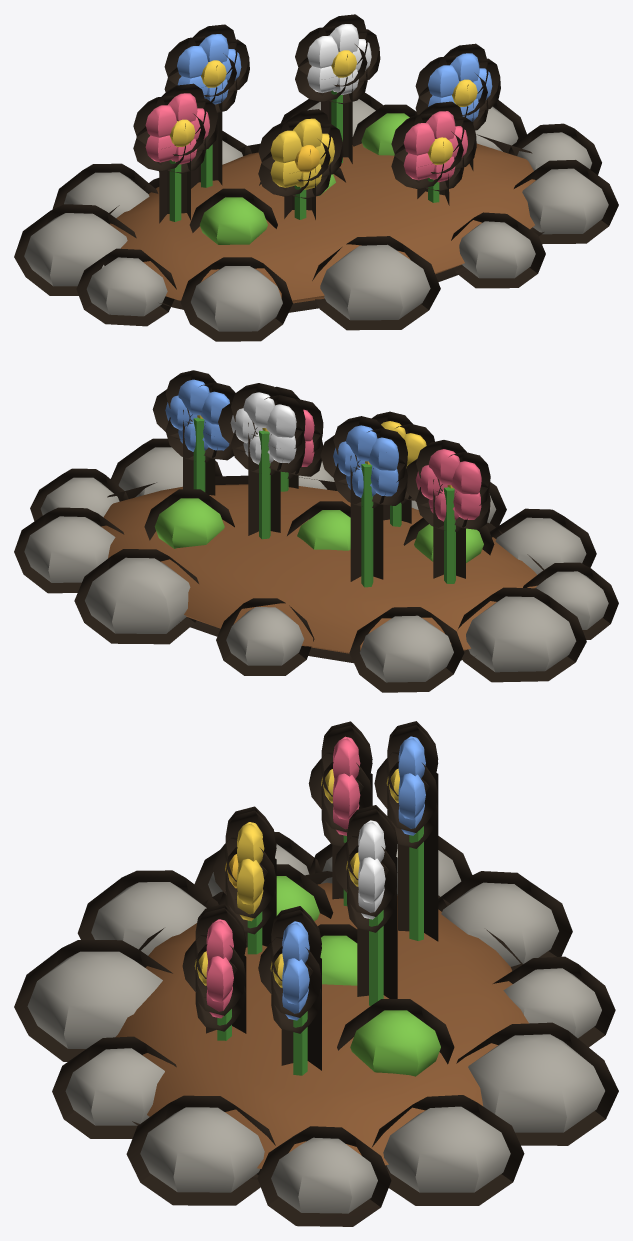
The model's file is flowerbed.glb.
The picture shows the model from 3 angles, top to bottom: view 1: azimuth 30°, elevation 25°; view 2: azimuth 150°, elevation 25°; view 3: azimuth 270°, elevation 25°; orthographic projection. The views are drawn at different scales.
Visible parts, largest first — view 1: flowerbed; view 2: flowerbed; view 3: flowerbed.
Boxes of the visible parts, x1=… form: flowerbed: x1=14, y1=14, x2=618, y2=341; flowerbed: x1=14, y1=370, x2=618, y2=692; flowerbed: x1=14, y1=721, x2=618, y2=1226.
Bounding box in the file's own units: 1.64 × 0.6087 × 1.2.
